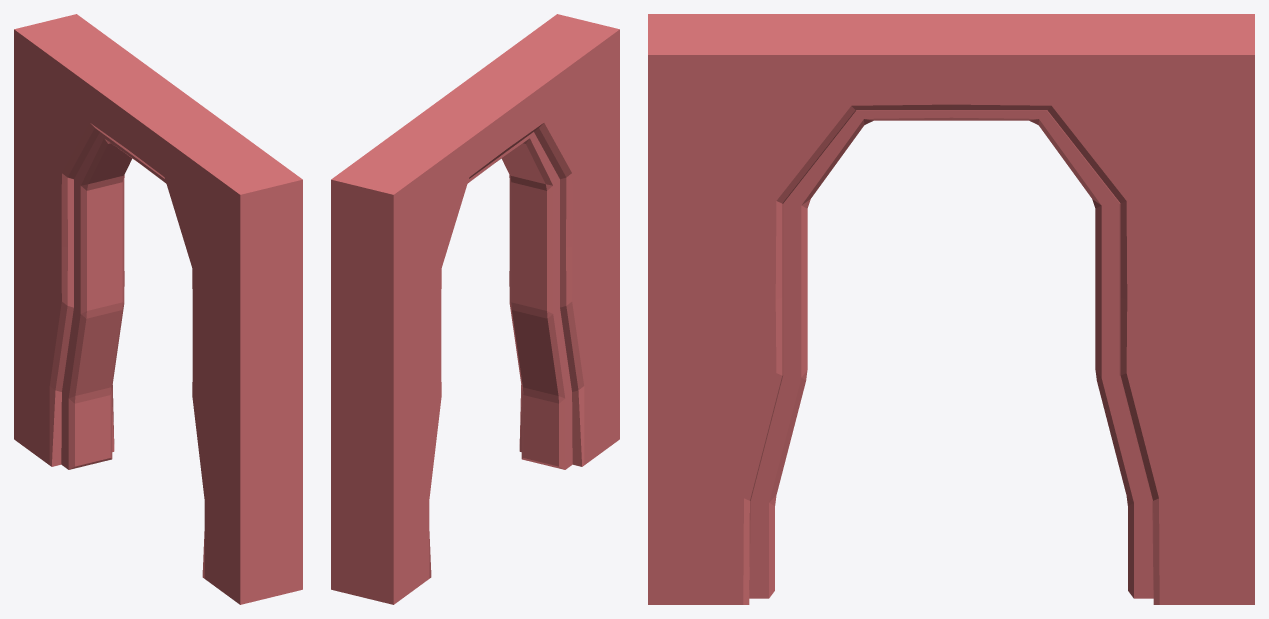
The model's file is 23-AncientDoorFrame.fbx.
3 views of the same model, side by side, from view 1: azimuth 30°, elevation 25°; view 2: azimuth 150°, elevation 25°; view 3: azimuth 270°, elevation 25° (orthographic). The views are drawn at different scales.
Parts seen in each view (by area): view 1: AncientDoorFrame; view 2: AncientDoorFrame; view 3: AncientDoorFrame.
Part boxes in pixels (box(x1,y1,x2,y2)): AncientDoorFrame: box(14, 14, 302, 604); AncientDoorFrame: box(331, 14, 619, 604); AncientDoorFrame: box(648, 14, 1254, 604).
Size of the model in its own units: 64 by 400 by 400.
